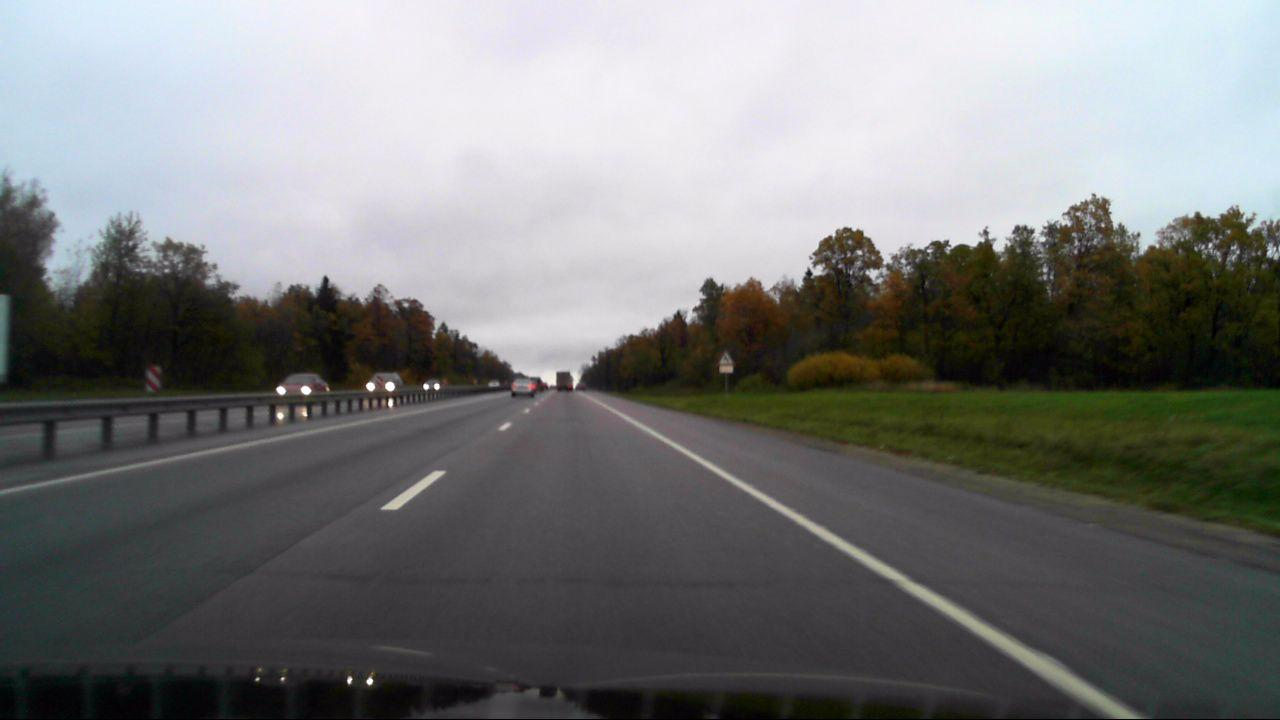1_27: (718, 349, 734, 366)
8_2_1: (719, 366, 734, 372)
